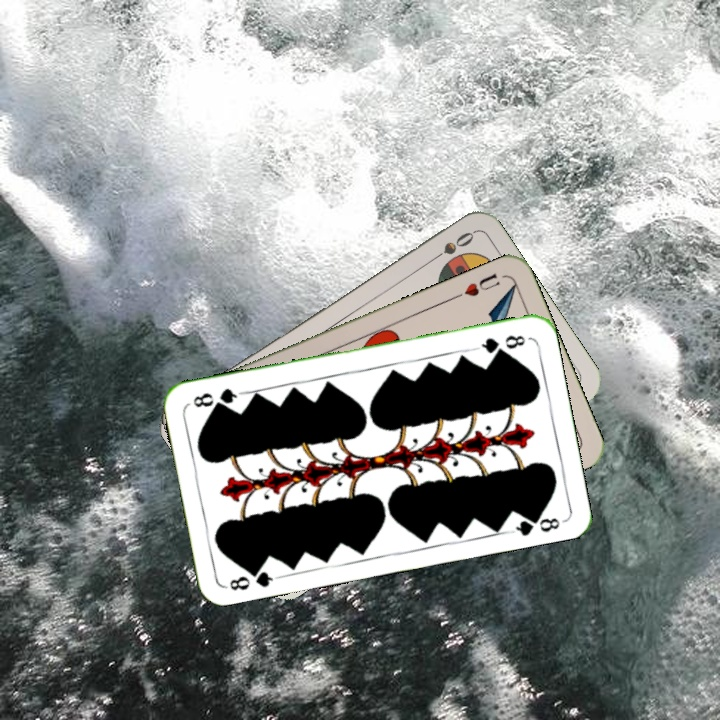G8: (223, 562, 282, 593), (472, 331, 528, 356)
HU: (450, 269, 503, 302)
SO: (424, 227, 477, 266)
